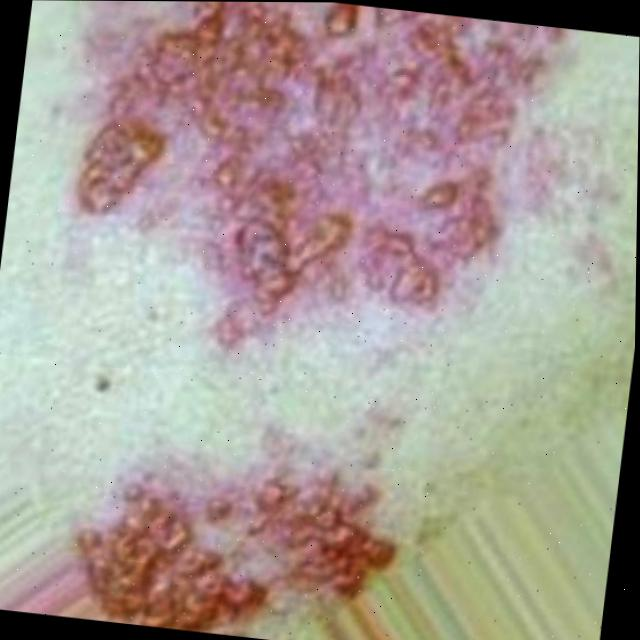Shingles: (58, 0, 562, 363), (82, 457, 415, 640)
